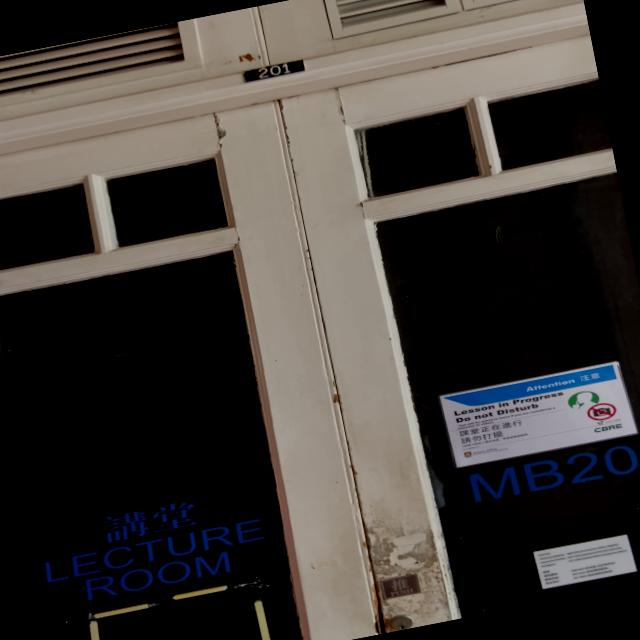room201: (236, 54, 312, 86)
room201Window: (459, 430, 640, 510)
